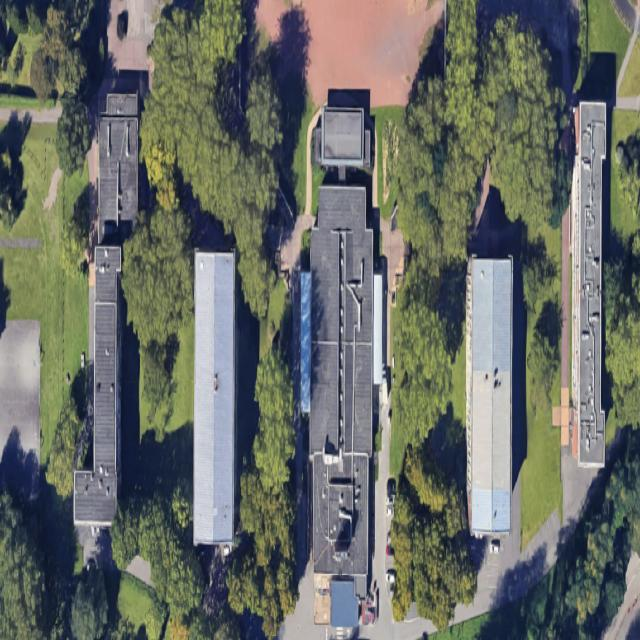immeuble: (192, 247, 236, 544), (465, 256, 512, 532), (571, 103, 606, 467)
